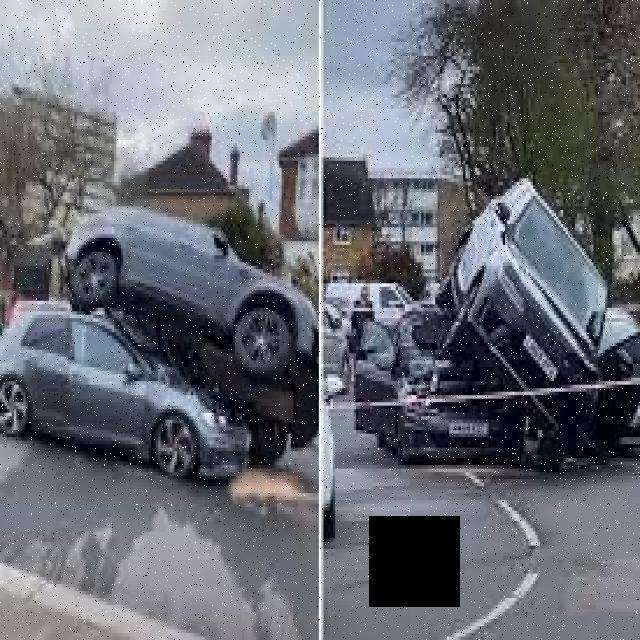accident: (0, 192, 326, 493), (342, 168, 640, 466)
